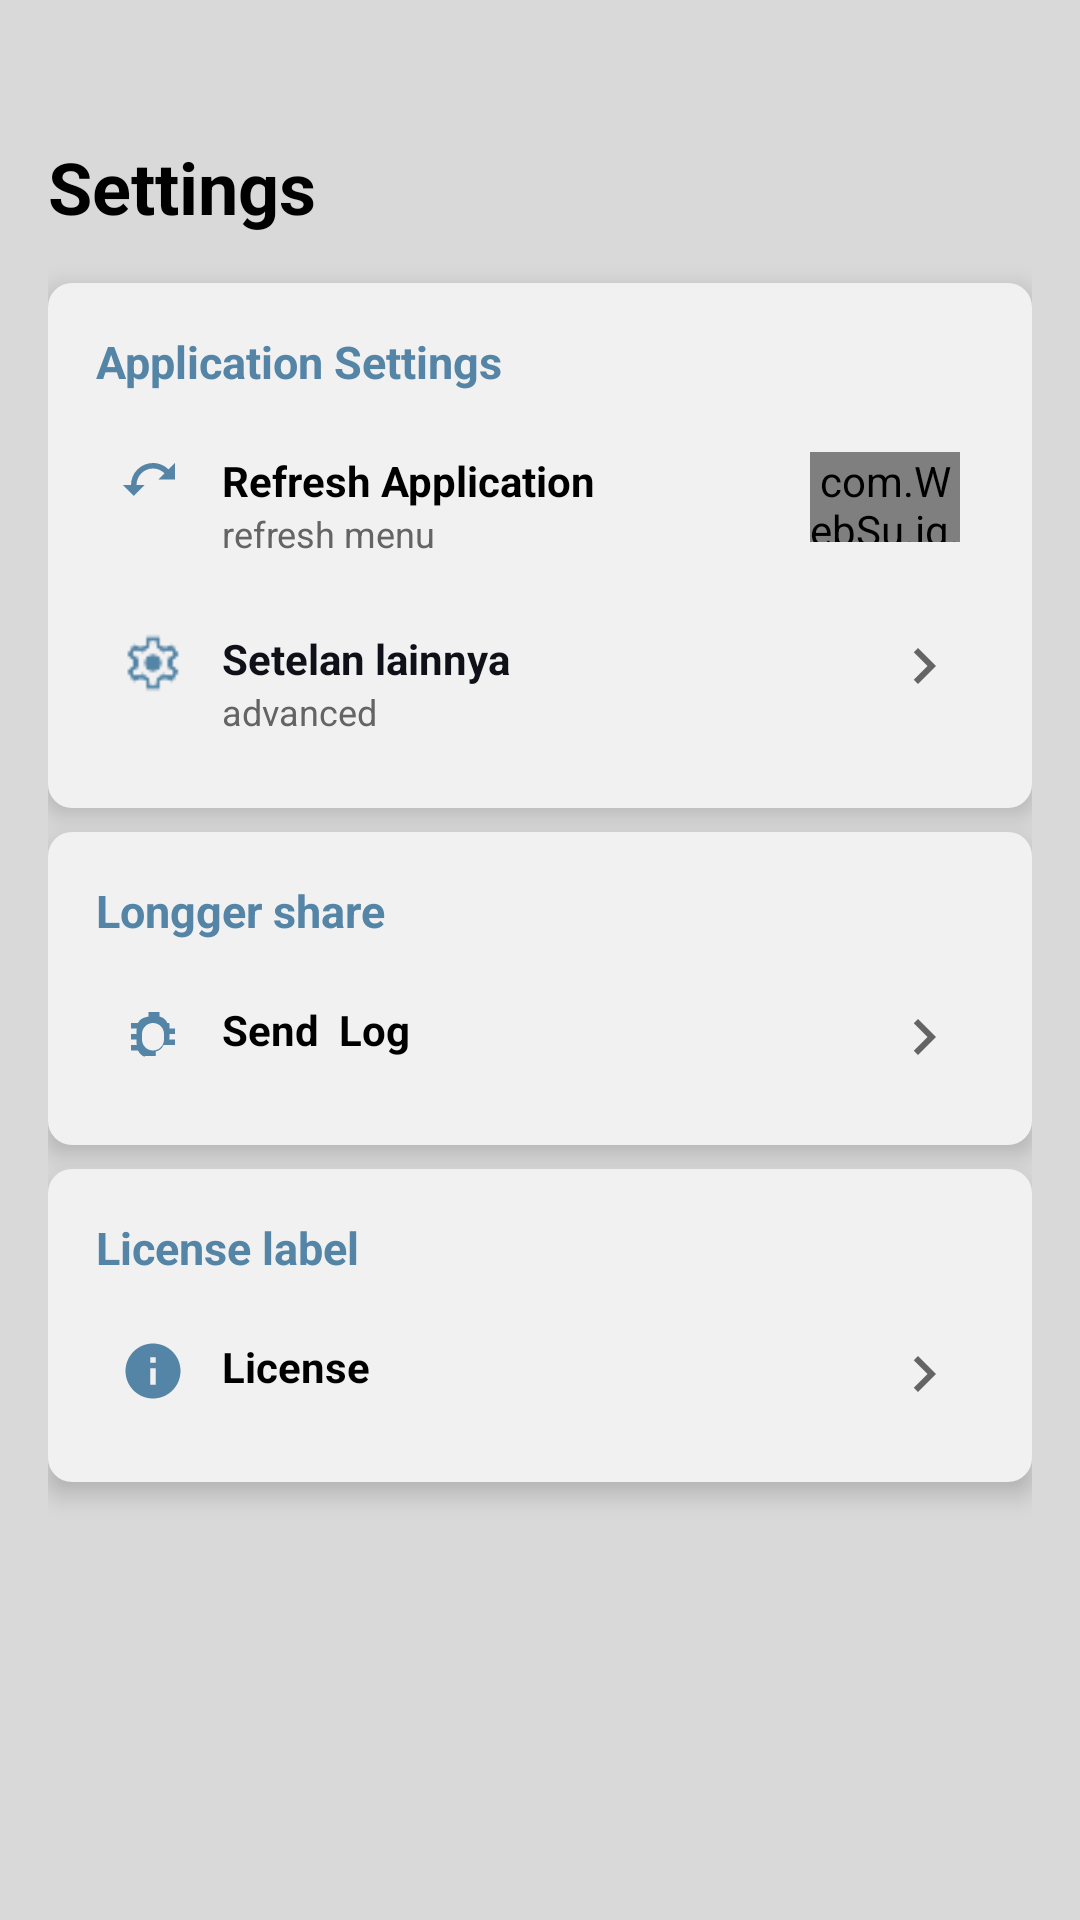

Icons on this 1080 × 1920 Android screen, each with its box as (x1, y1, x2, y2):
arrow right: (914, 648, 936, 684), (914, 1019, 936, 1055), (914, 1356, 936, 1392)
info: (125, 1343, 181, 1399)
settings: (127, 635, 179, 691)
